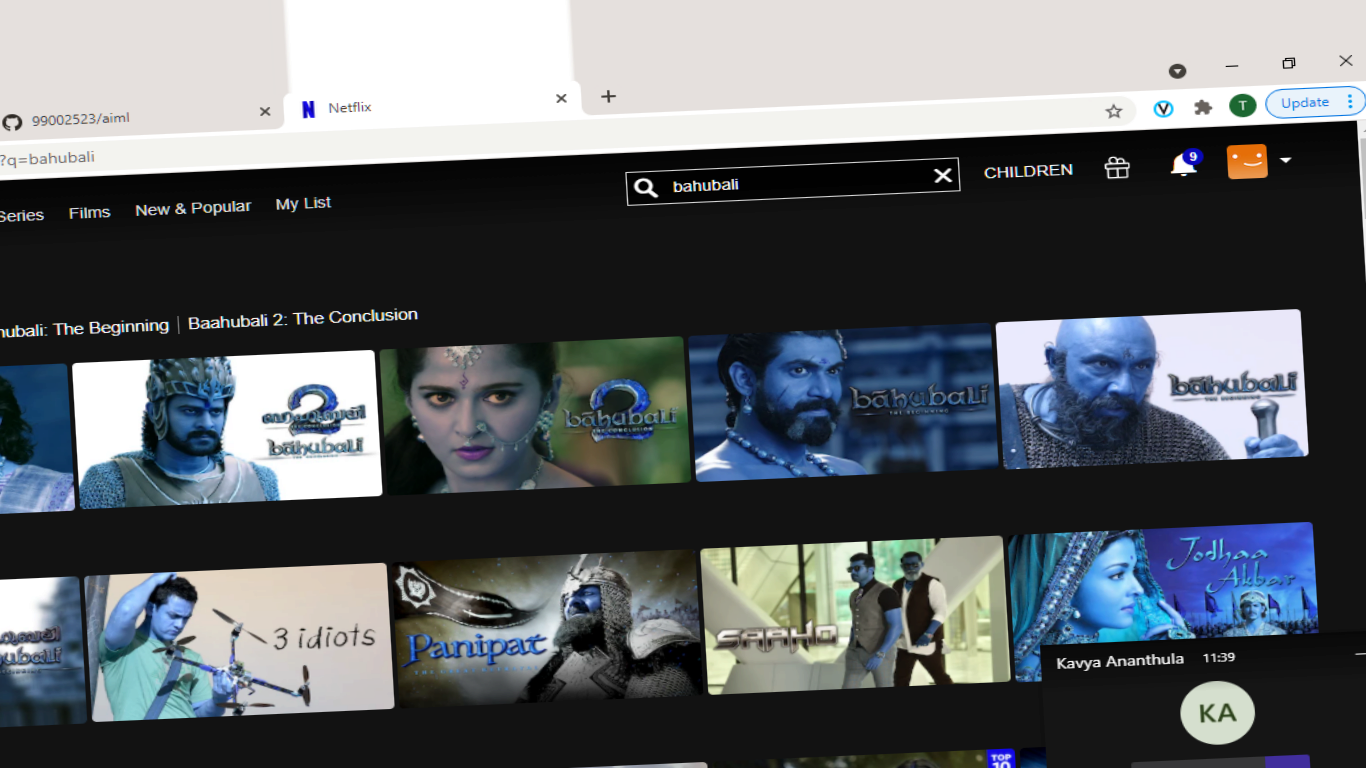profileicon: (1211, 142, 1290, 190)
resultsfound: (1, 303, 437, 340)
searchicon: (626, 172, 663, 205)
searchtextbox: (607, 157, 974, 212)
